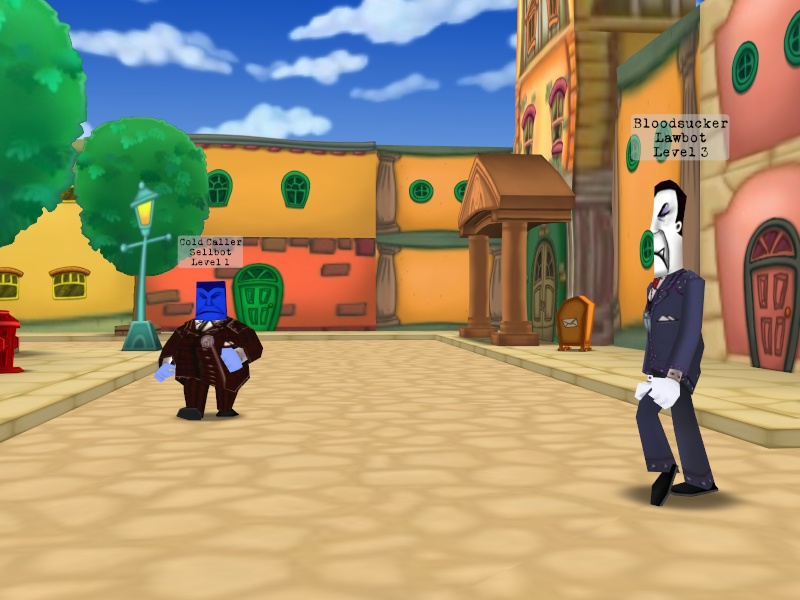cog_lb_bloodsucker: (631, 174, 720, 510)
cog_sb_coldcaller: (152, 279, 266, 423)
